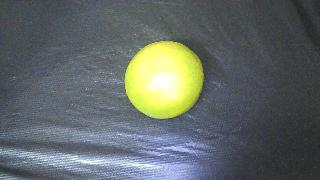LOCAL: (124, 41, 204, 119)
